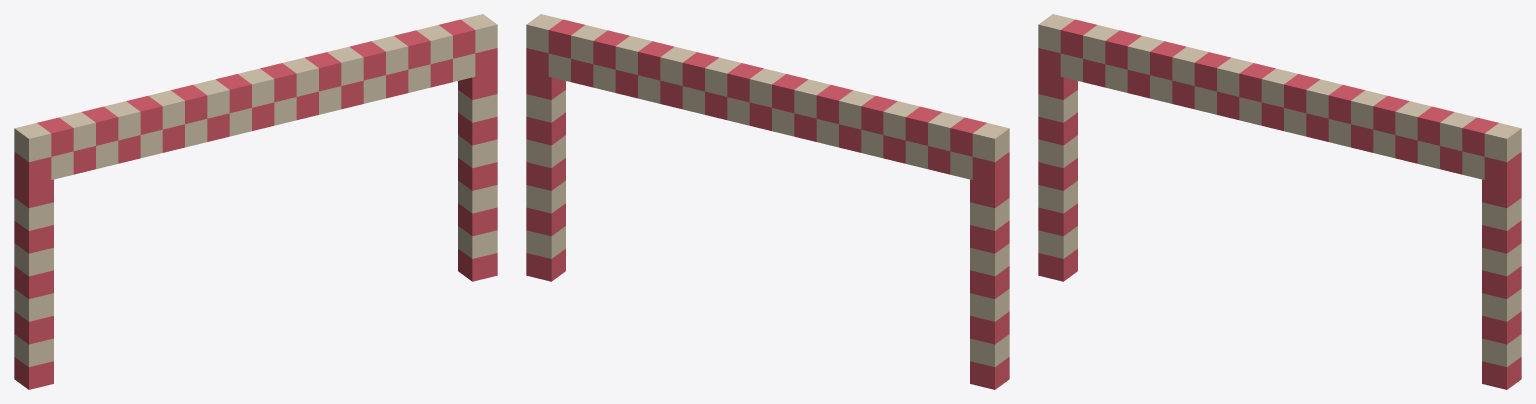
The model's file is highway-gantry.obj.
3 views of the same model, side by side, from view 1: azimuth 30°, elevation 25°; view 2: azimuth 150°, elevation 25°; view 3: azimuth 330°, elevation 25° (orthographic).
Parts seen in each view (by area): view 1: gate; view 2: gate; view 3: gate.
Boxes of the visible parts, x1,y1,x2,y2 form: gate: (14,14,497,389); gate: (526,14,1009,389); gate: (1038,14,1521,389).
Bounding box in the file's own units: 1680 × 860 × 90.
